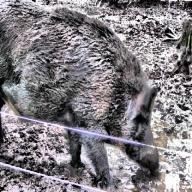boar: (1, 4, 162, 168)
